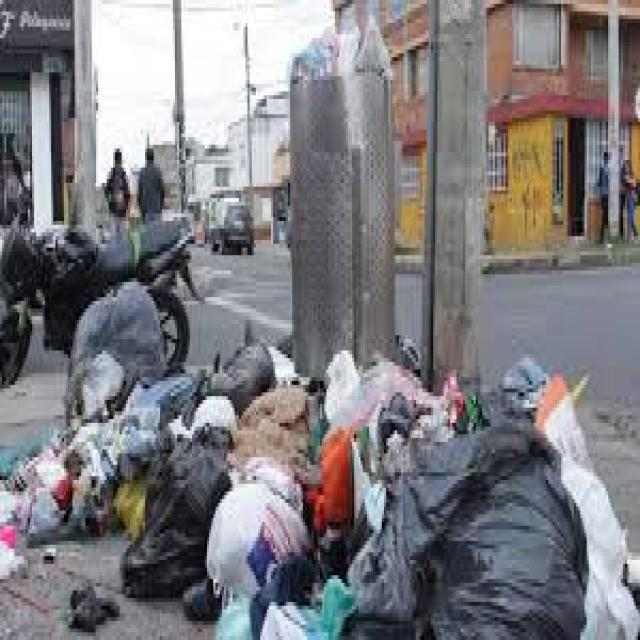garbage: (0, 270, 640, 640), (278, 14, 395, 86)
